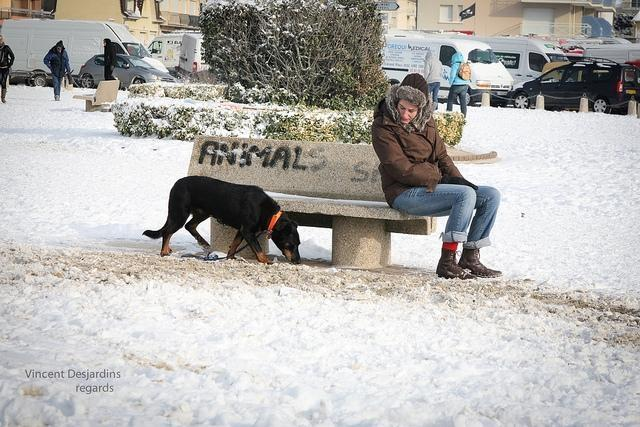car: (507, 57, 640, 114), (76, 54, 176, 89)
truck: (3, 19, 170, 86), (383, 31, 516, 104), (452, 34, 566, 86), (564, 45, 639, 64), (148, 34, 185, 70)
